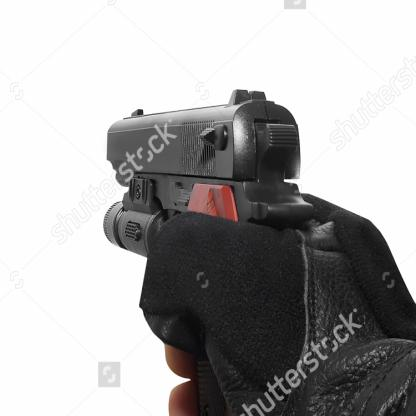gun: (85, 75, 327, 359)
